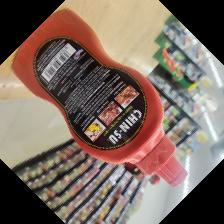Chinsu: (9, 7, 190, 188)
